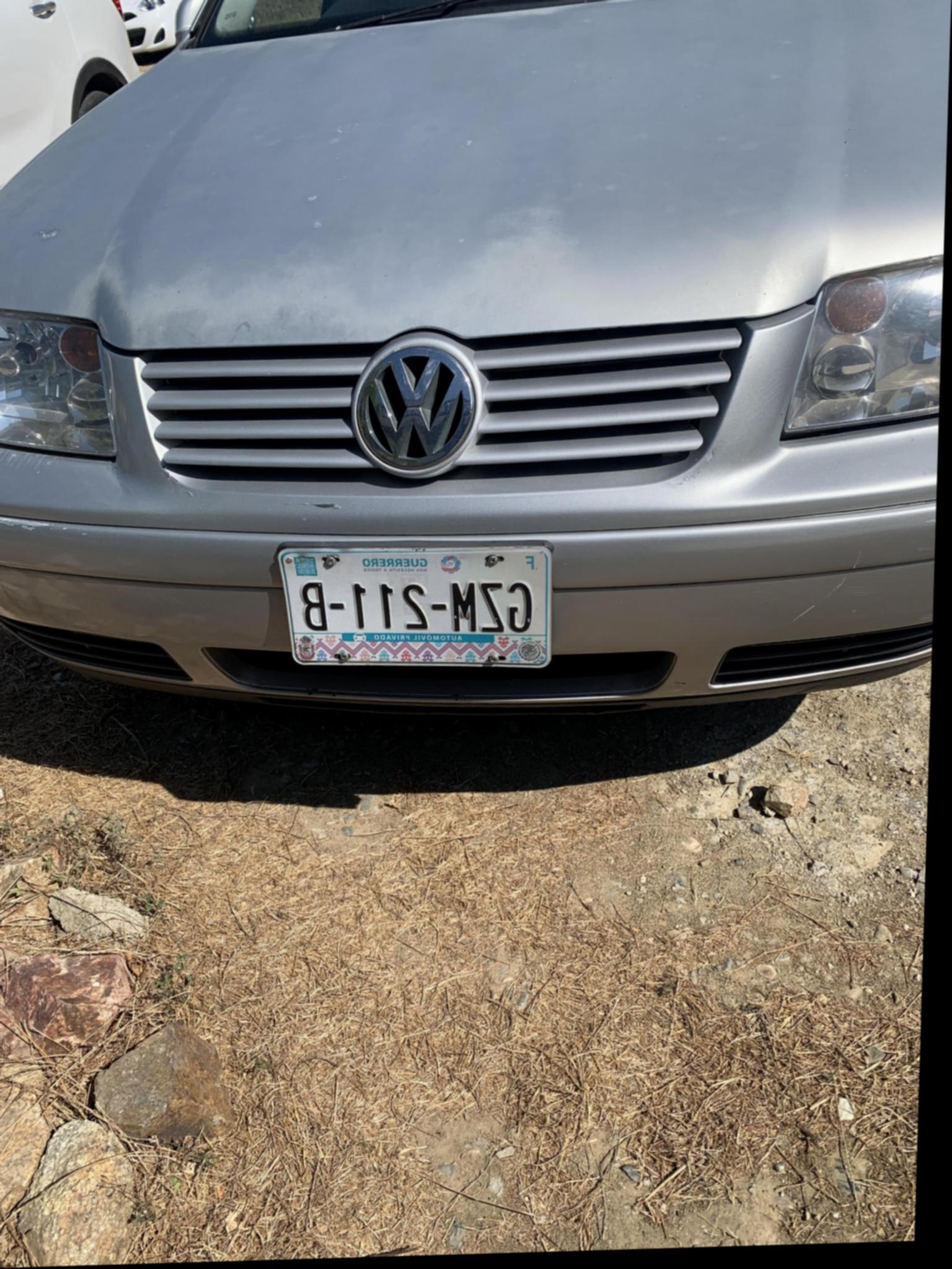License_Plate: (253, 517, 584, 703)
